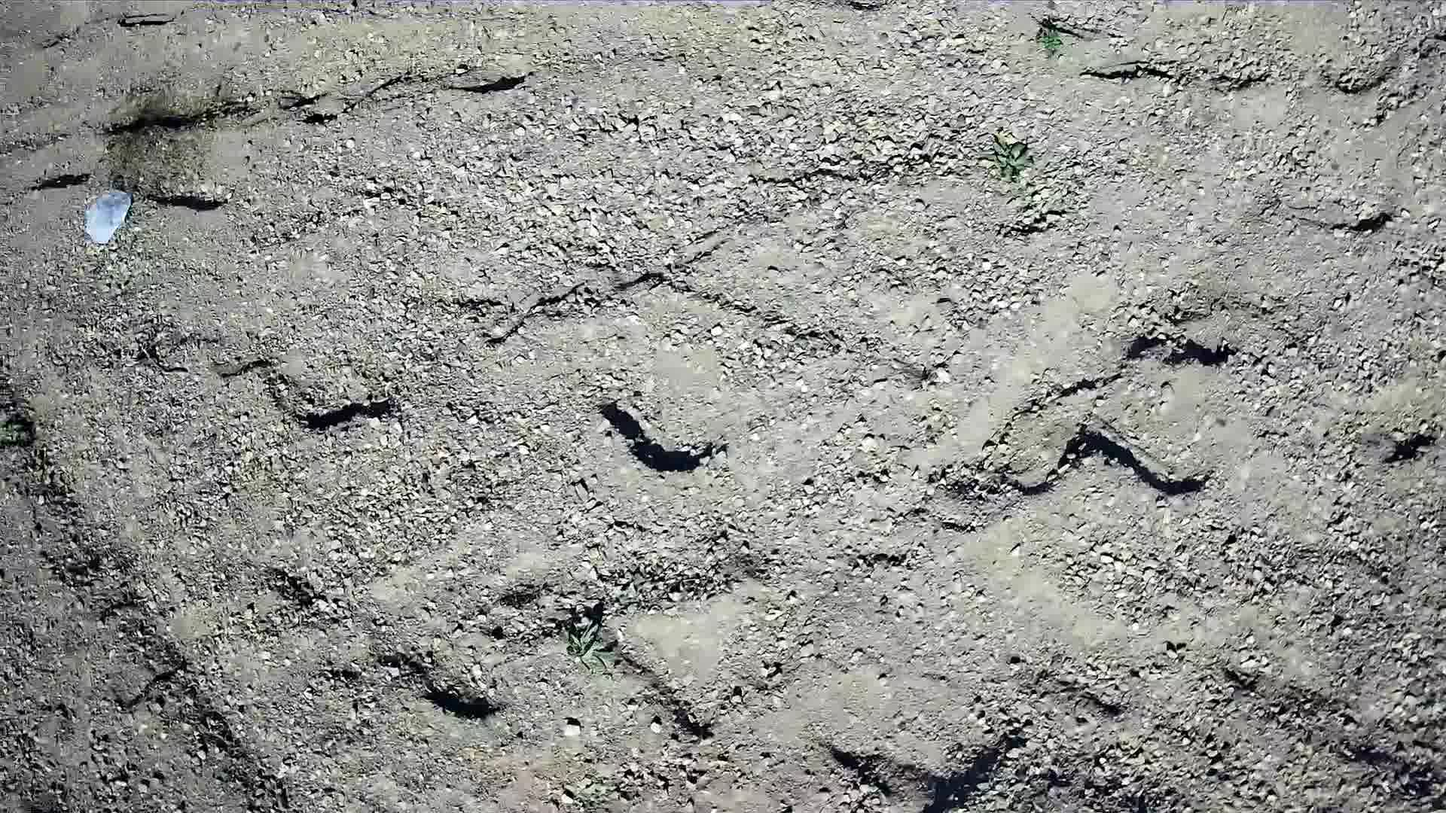Target: (85, 190, 131, 245)
